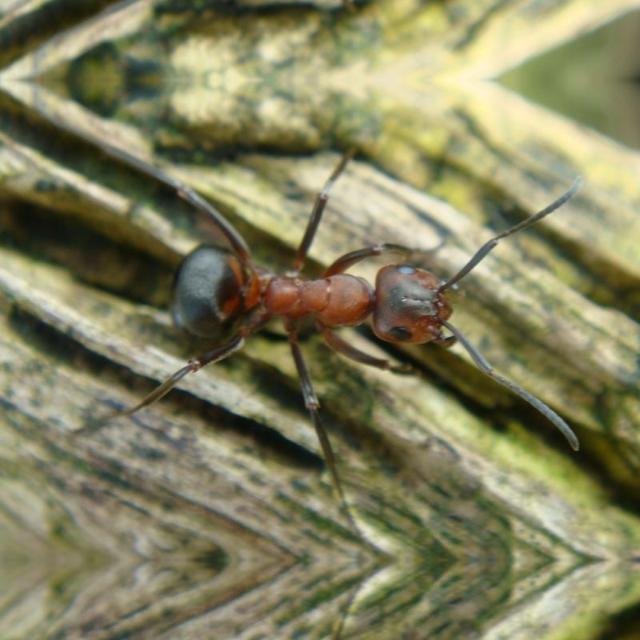Formica: (151, 202, 477, 390)
